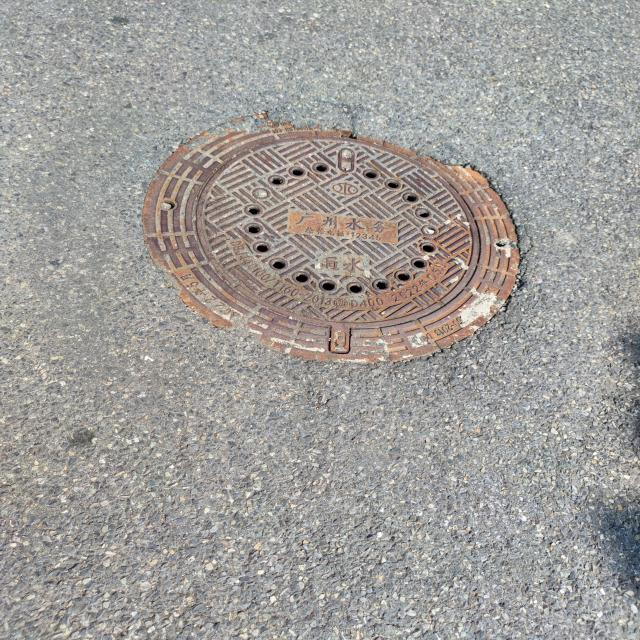Good: (141, 107, 535, 382)
